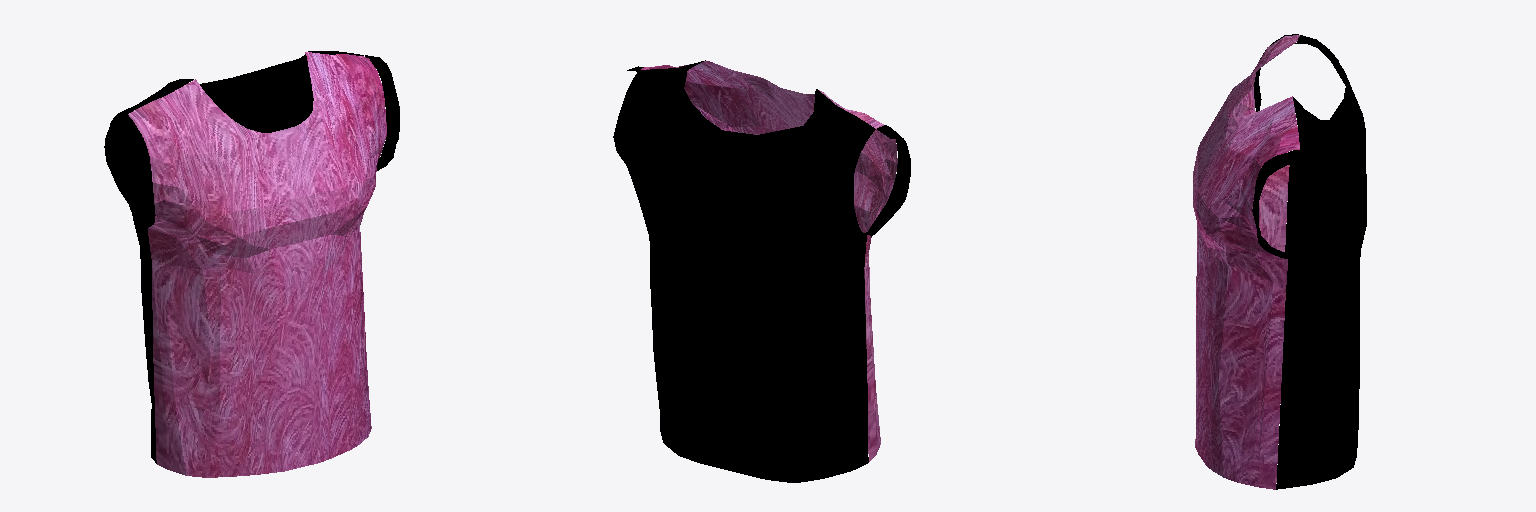
The picture shows the model from 3 angles: view 1: azimuth 30°, elevation 25°; view 2: azimuth 150°, elevation 25°; view 3: azimuth 270°, elevation 25°; orthographic projection.
Visible parts, largest first — view 1: T_shirt; view 2: T_shirt; view 3: T_shirt.
Boxes of the visible parts, <box> form: T_shirt: <box>104,51,399,477</box>; T_shirt: <box>613,60,910,482</box>; T_shirt: <box>1193,34,1366,489</box>.
Bounding box in the file's own units: 0.2935 × 0.3892 × 0.1639.
Materials: 2 (1 with a texture image).